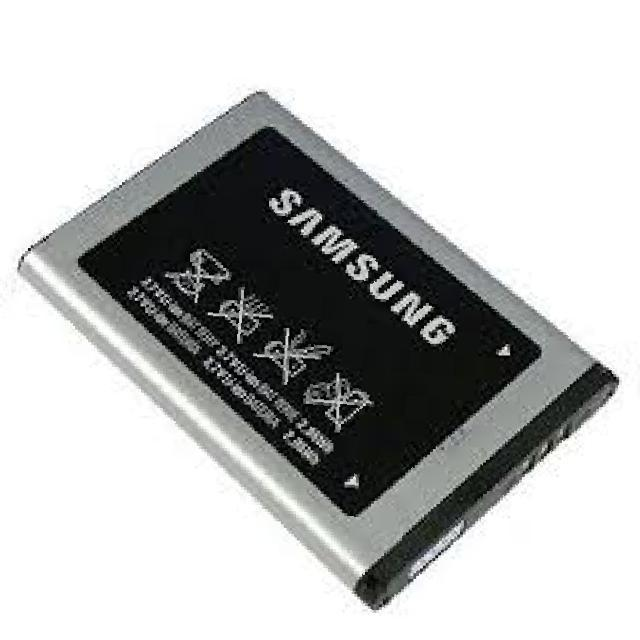Battery: (11, 73, 640, 616)
